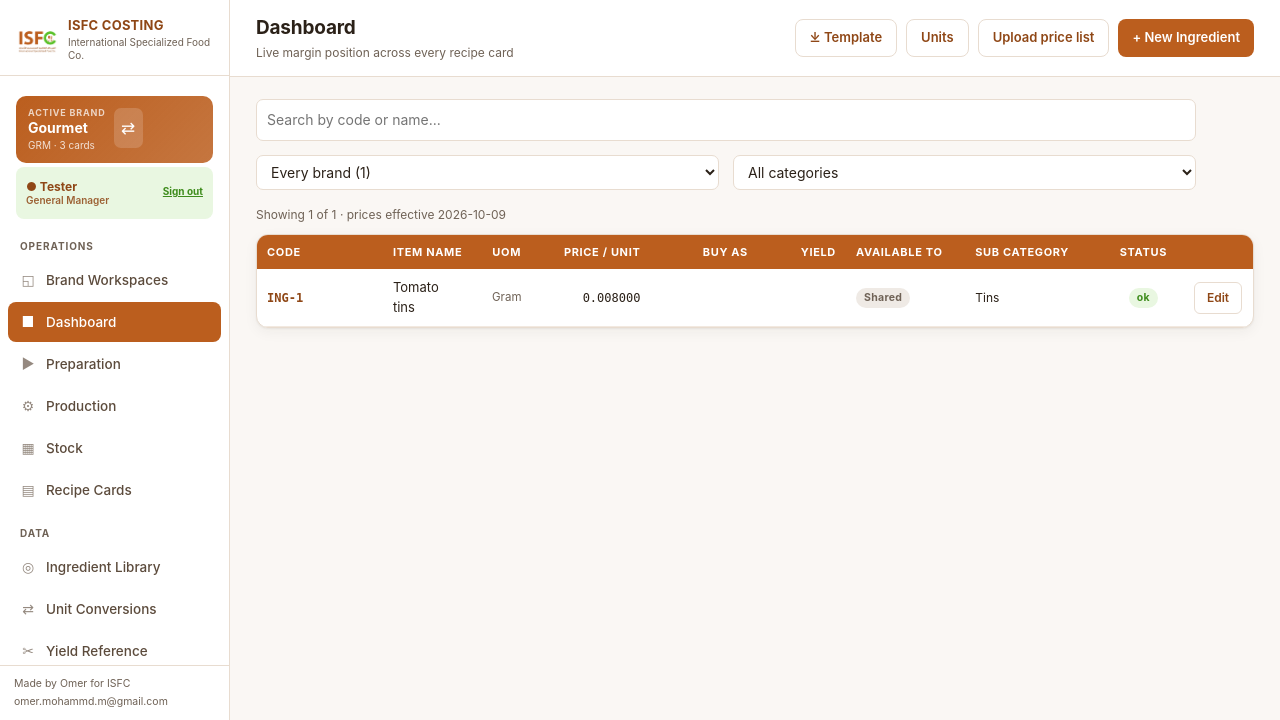
Test: three units on the Items screen (D-102) › shows the cooking unit from Conv, read only
Click the button "Edit": (1218, 298) x1=1194 y1=282 x2=1242 y2=314
(page scrolled)
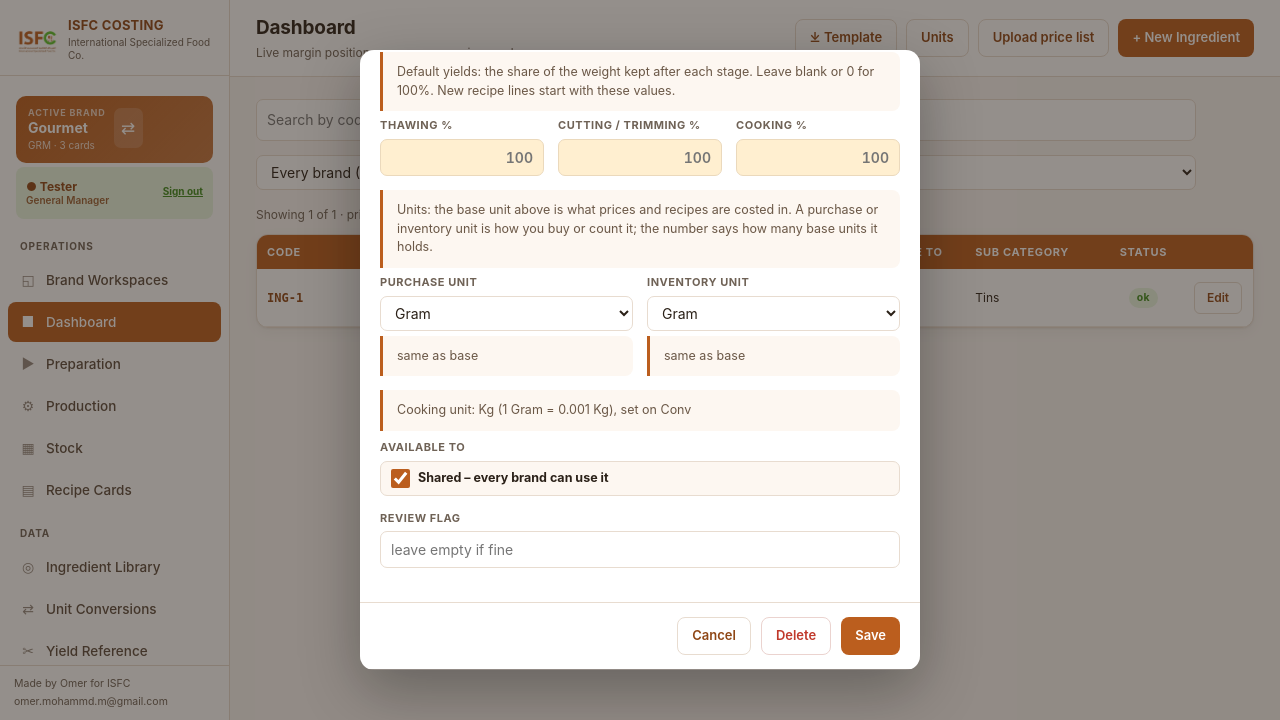
Now the text "Cooking unit: Kg (1 Gram = 0.001 Kg), set on Conv" is shown, box x1=380 y1=390 x2=900 y2=431
